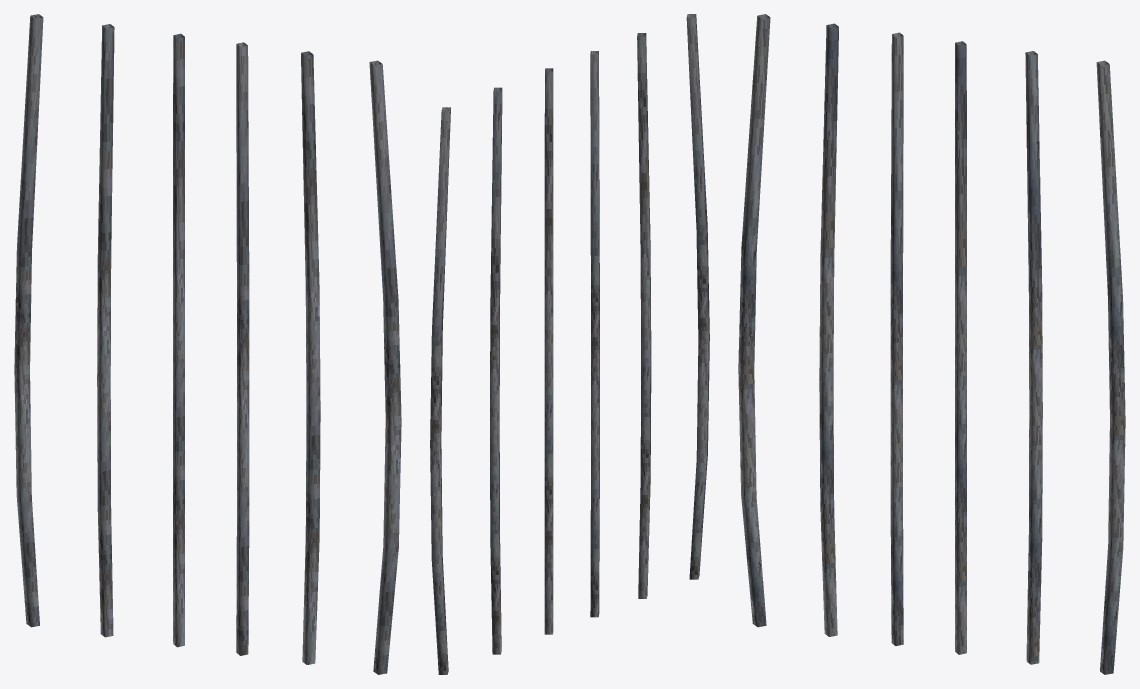
File: EKH_THRONE_ANIM_TH_GATE_BARS__AI.fbx
3 views of the same model, side by side, from view 1: azimuth 90°, elevation 25°; view 2: azimuth 150°, elevation 25°; view 3: azimuth 270°, elevation 25° (orthographic). The views are drawn at different scales.
Visible parts, largest first — view 1: EKH_THRONE_ANIM_TH_GATE_BARS__AI; view 2: EKH_THRONE_ANIM_TH_GATE_BARS__AI; view 3: EKH_THRONE_ANIM_TH_GATE_BARS__AI.
Boxes of the visible parts, left/top/right/bottom form: EKH_THRONE_ANIM_TH_GATE_BARS__AI: left=14, top=14, right=401, bottom=674; EKH_THRONE_ANIM_TH_GATE_BARS__AI: left=430, top=14, right=709, bottom=674; EKH_THRONE_ANIM_TH_GATE_BARS__AI: left=738, top=14, right=1125, bottom=674.
Size of the model in its own units: 6384 by 32375 by 18657.
Materials: 1 (1 with a texture image).
